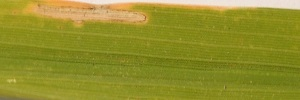RiceBacterialBlight: (4, 1, 233, 29)
